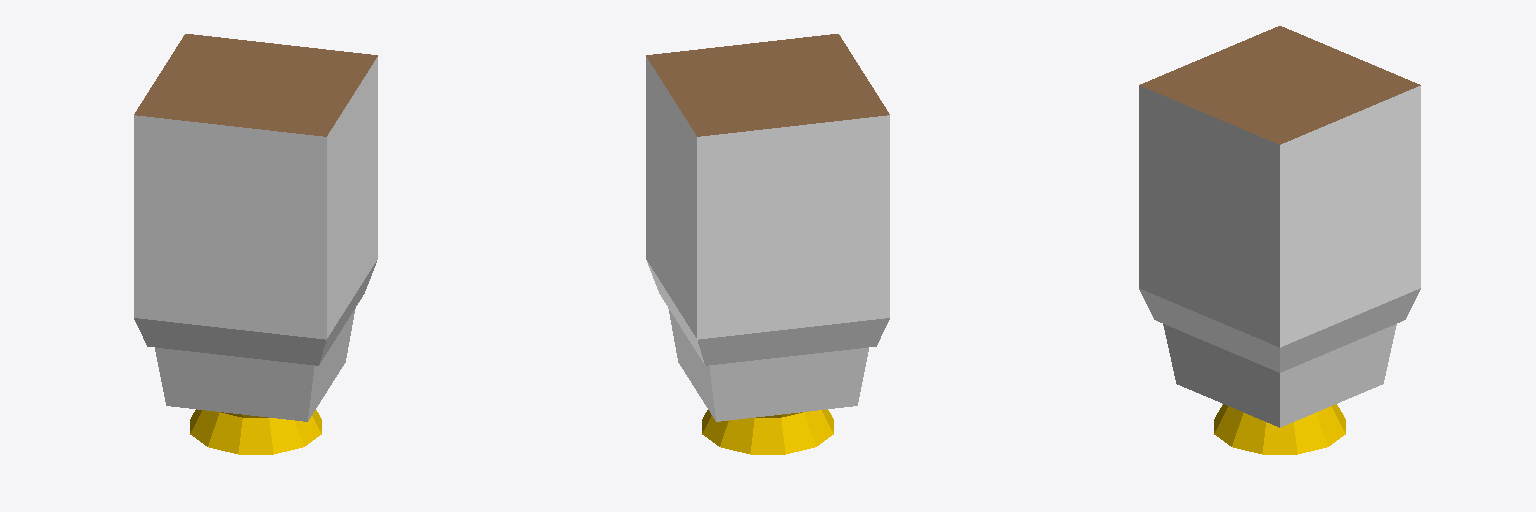
Rendered from AnAwfulLight.obj.
3 views of the same model, side by side, from view 1: azimuth 30°, elevation 25°; view 2: azimuth 150°, elevation 25°; view 3: azimuth 270°, elevation 25° (orthographic).
Parts seen in each view (by area): view 1: mergedBlocks; view 2: mergedBlocks; view 3: mergedBlocks.
Part boxes in pixels (bbox=[...]): mergedBlocks: bbox=[134, 34, 377, 454]; mergedBlocks: bbox=[646, 34, 889, 454]; mergedBlocks: bbox=[1139, 26, 1420, 454].
Size of the model in its own units: 0.3 by 0.4 by 0.3.